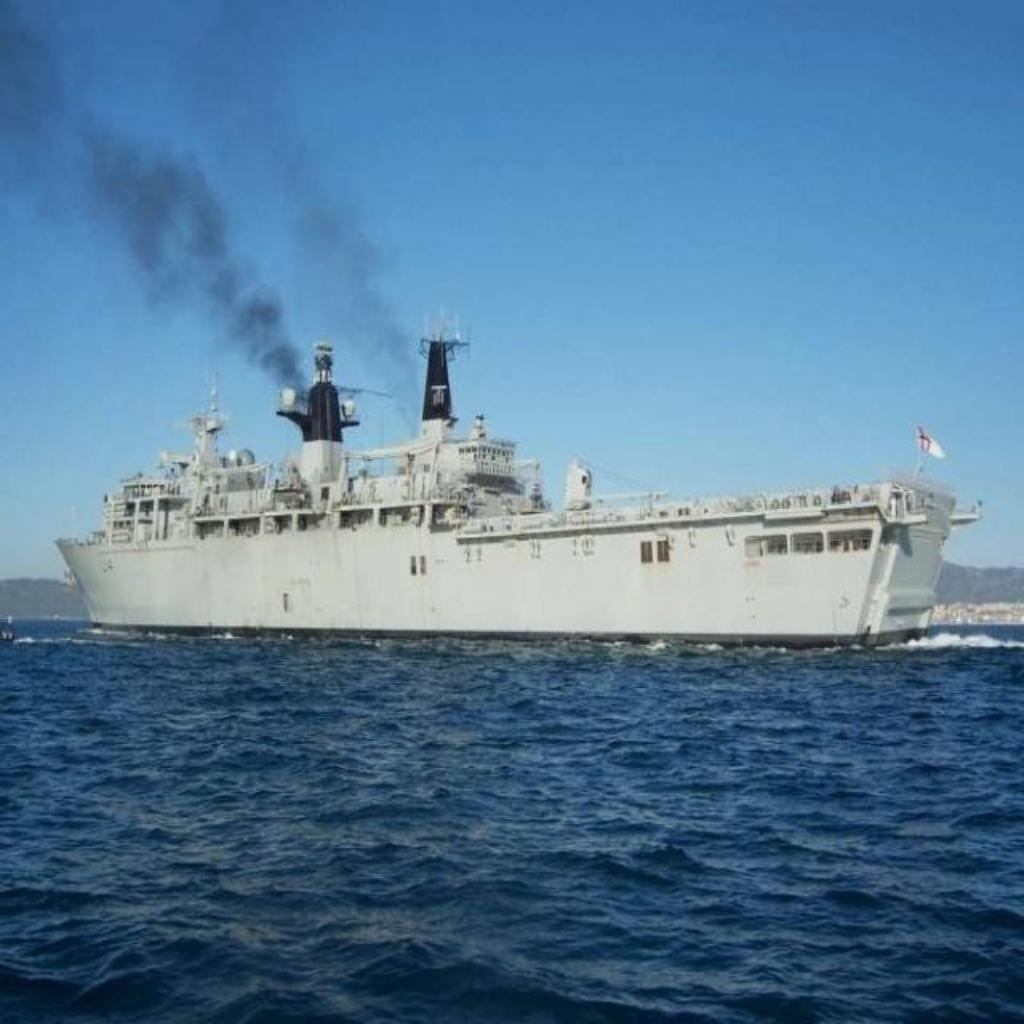Warship: (36, 301, 994, 665)
